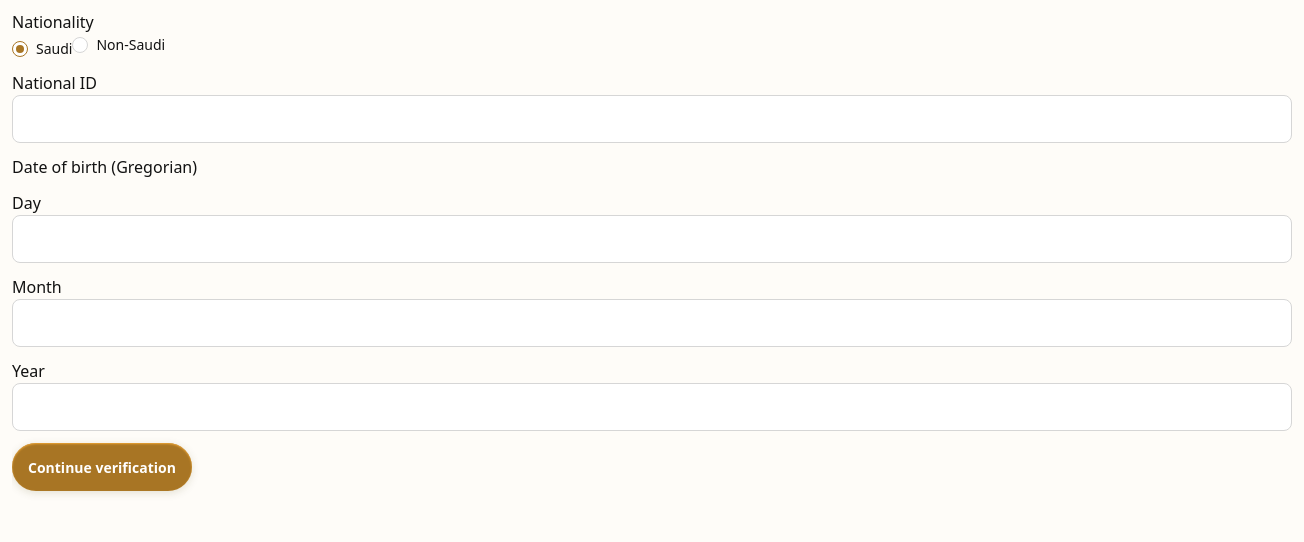
authentication forms › shows a submit failure as a form alert without marking valid fields invalid
Type "2234567890" into the field labelled "National ID" at [652, 119], box x1=12 y1=95 x2=1292 y2=143
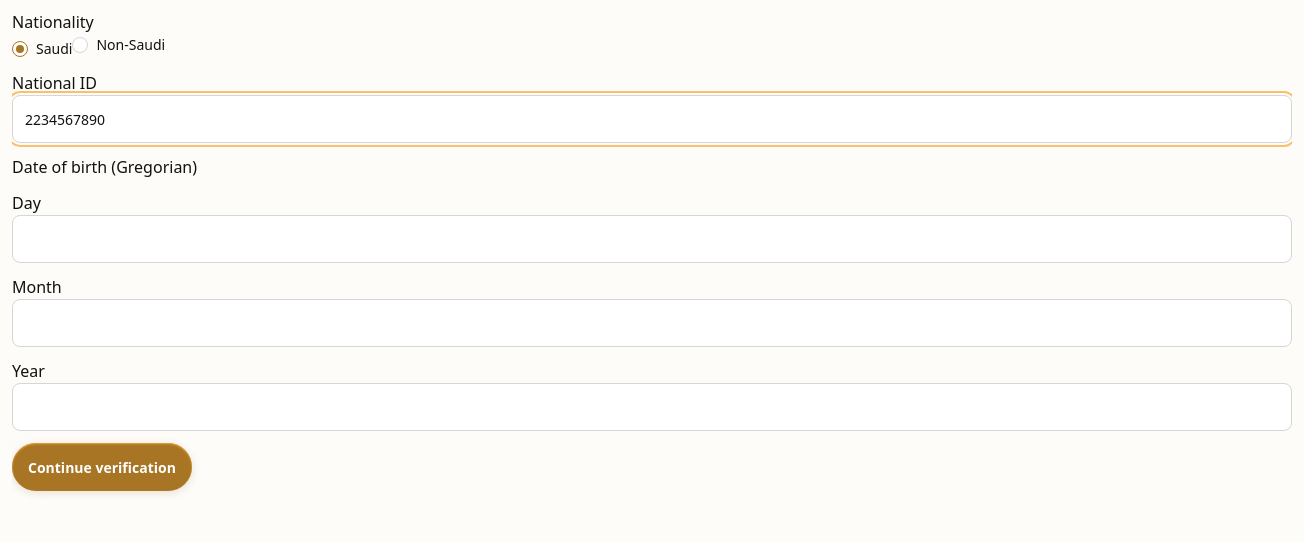
Type "15" into the number field labelled "Day" at [652, 239], box x1=12 y1=215 x2=1292 y2=263
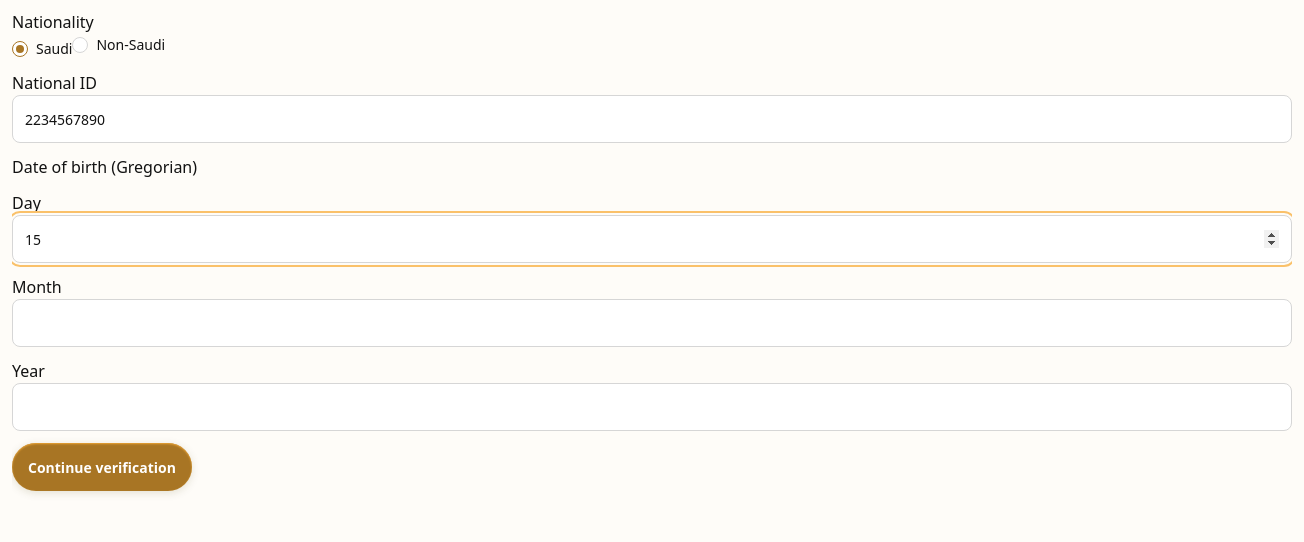
Type "06" into the number field labelled "Month" at [652, 323], box x1=12 y1=299 x2=1292 y2=347
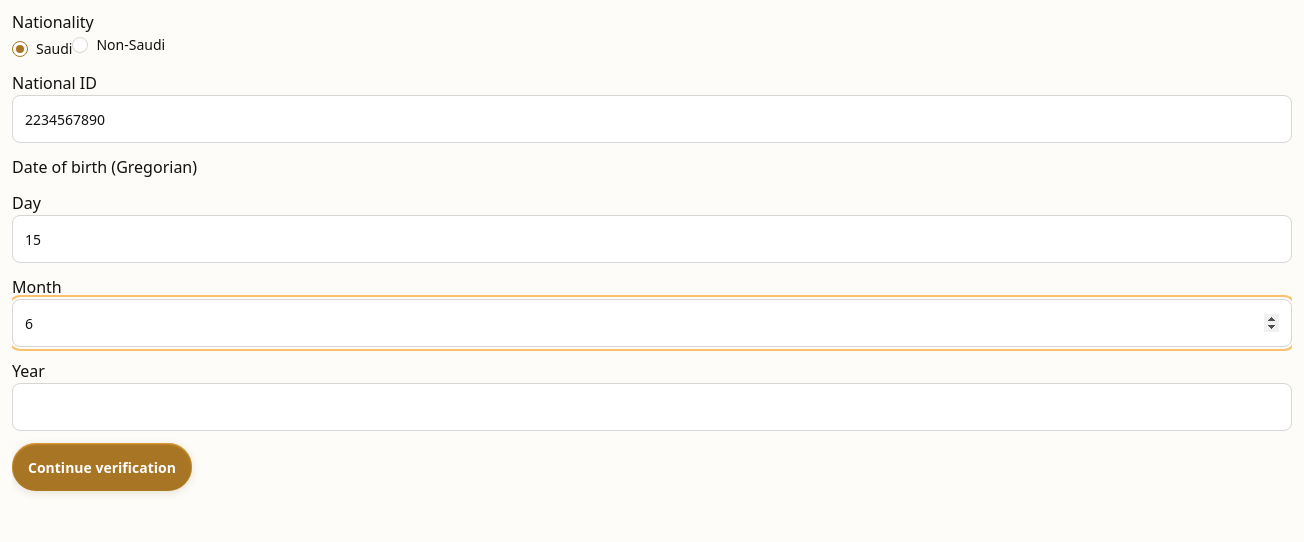
Type "1995" into the number field labelled "Year" at [652, 407], box x1=12 y1=383 x2=1292 y2=431
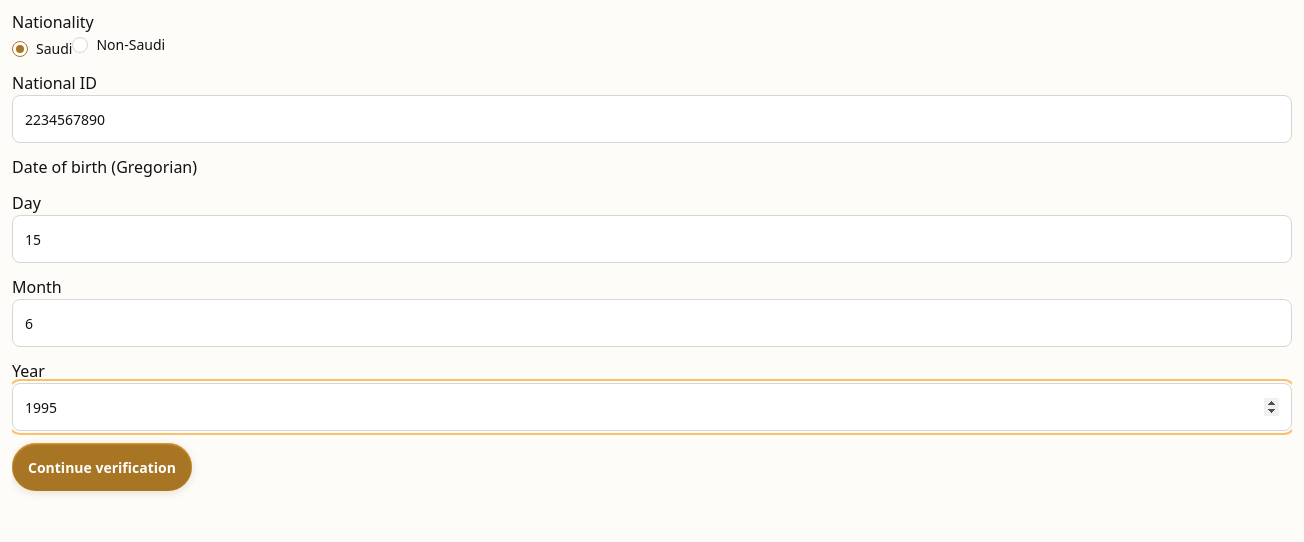
Click the button "Continue verification" at [102, 467], box x1=12 y1=443 x2=192 y2=491
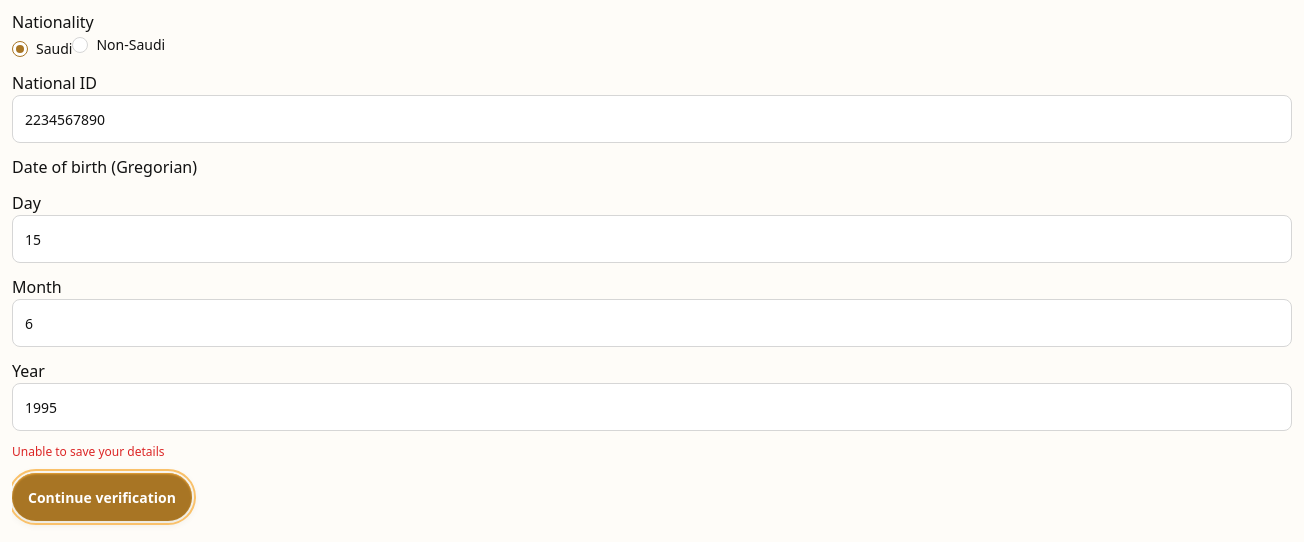
expect the message reads "Unable to save your details": met, box x1=12 y1=443 x2=164 y2=460
